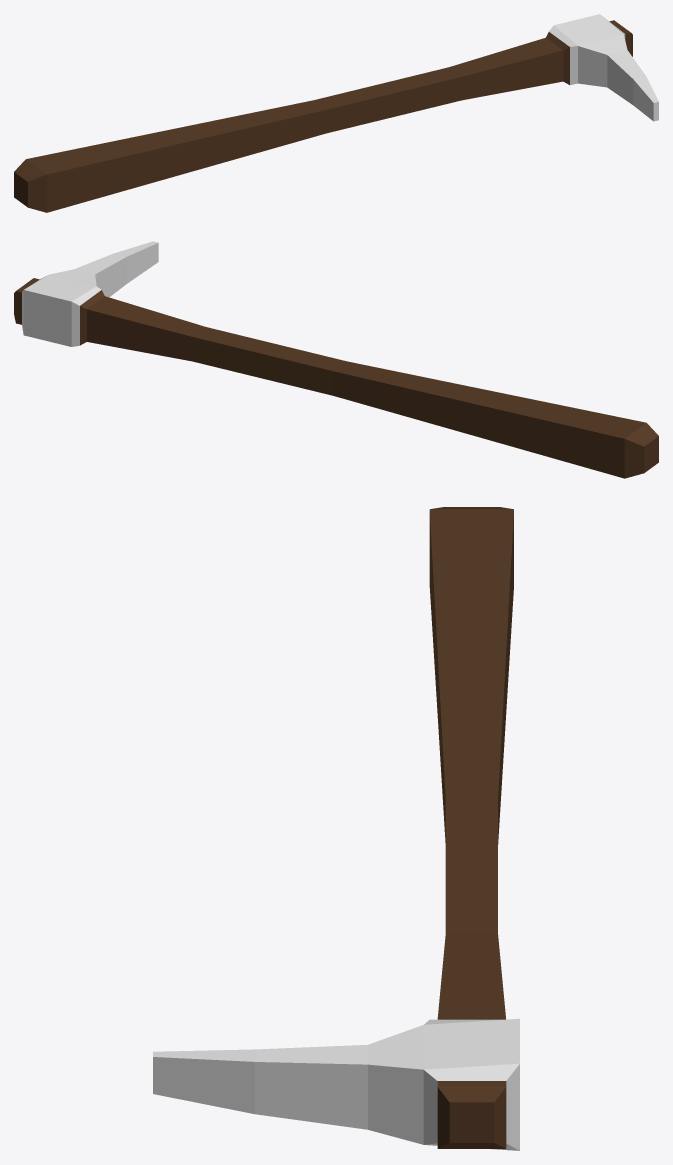
File: lowPolyHoe.fbx
3 renders of one model, top to bottom at view 1: azimuth 30°, elevation 25°; view 2: azimuth 150°, elevation 25°; view 3: azimuth 270°, elevation 25°, orthographic. The views are drawn at different scales.
Visible parts, largest first — view 1: Cube; view 2: Cube; view 3: Cube.
Part boxes in pixels (x1,y1,x2,y2): Cube: (14,14,658,212); Cube: (14,241,658,478); Cube: (153,507,519,1150).
Bounding box in the file's own units: 110 × 7.57 × 28.86.
